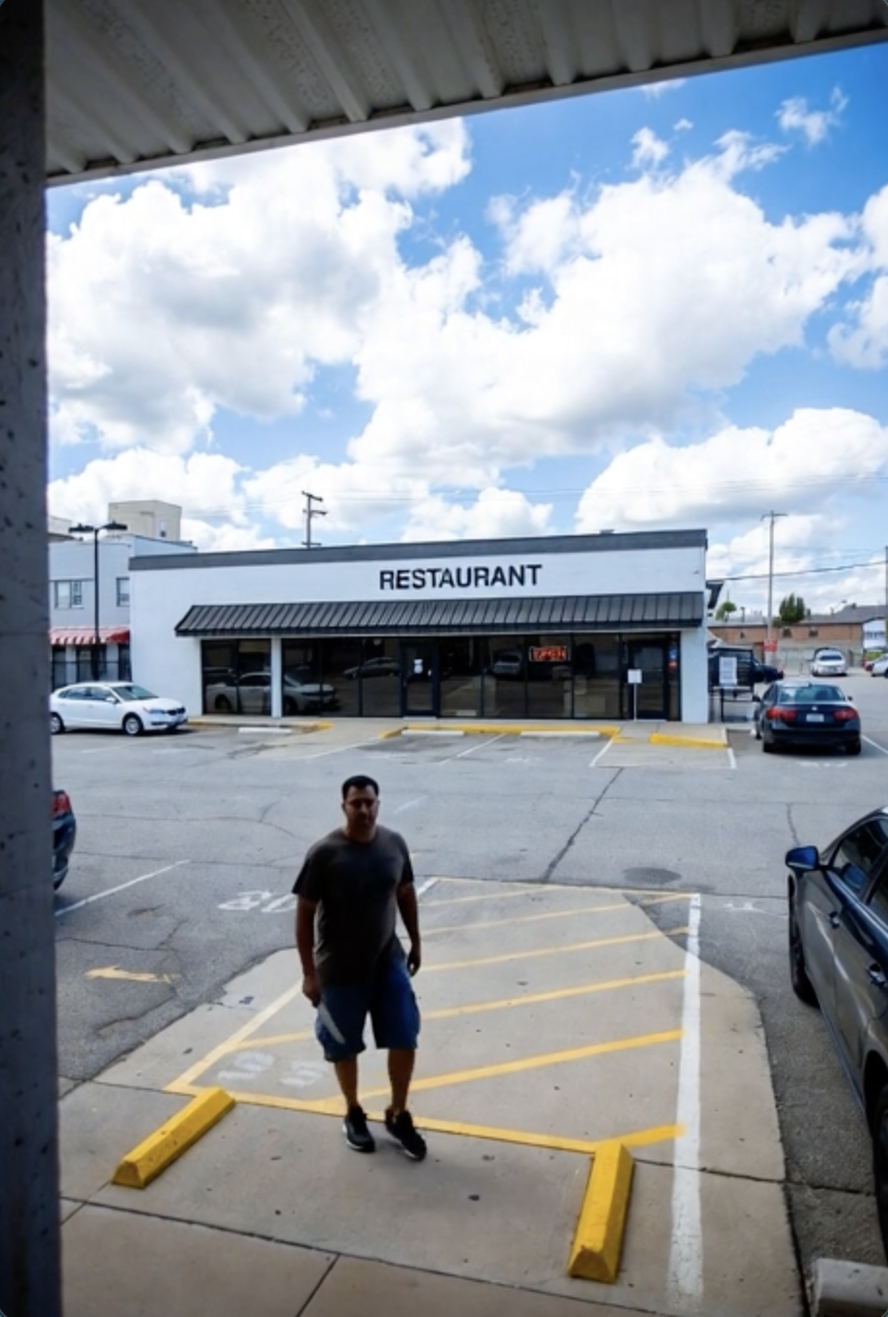Heavy Gun: (287, 767, 441, 1164)
Knife: (301, 971, 348, 1045)
